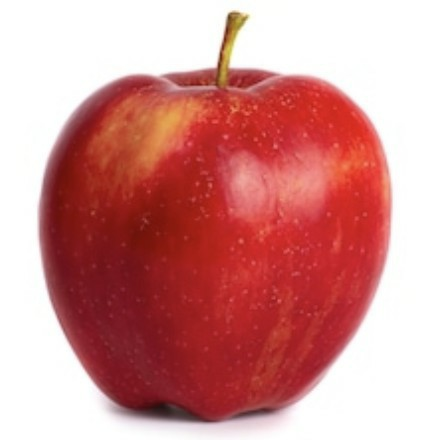fresh_apple: (37, 62, 396, 418)
